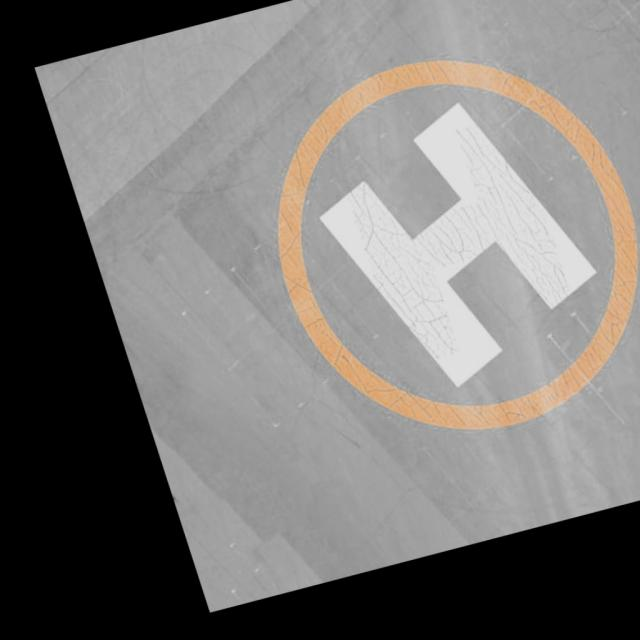helipad: (269, 55, 639, 435)
